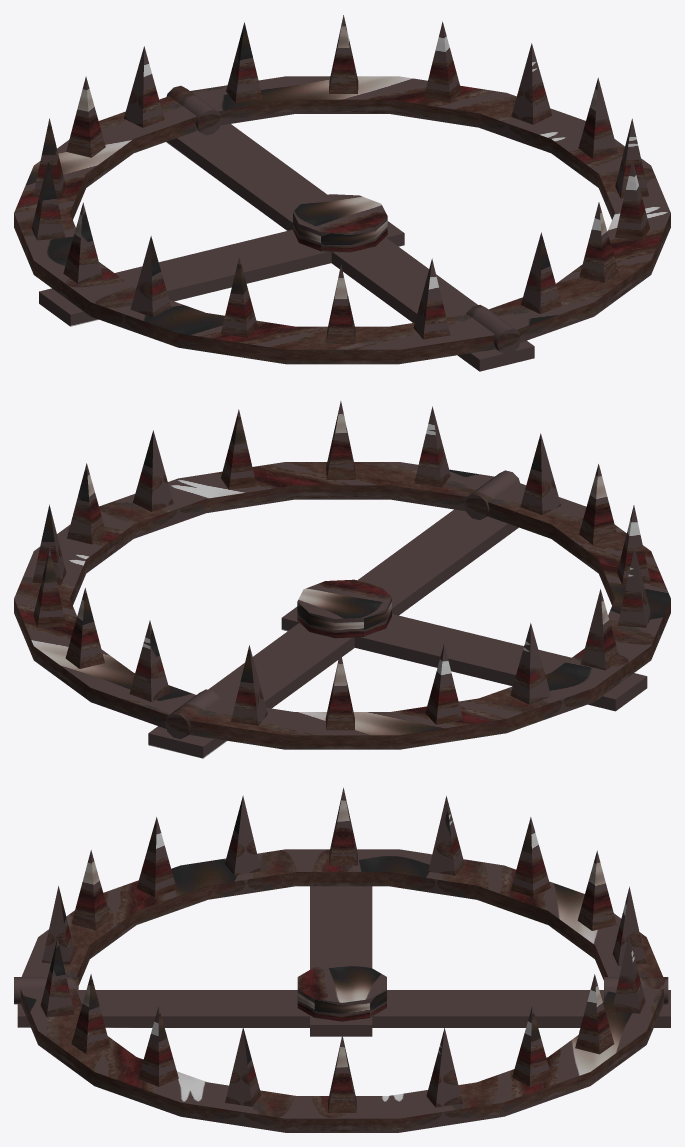
3 renders of one model, top to bottom at view 1: azimuth 30°, elevation 25°; view 2: azimuth 150°, elevation 25°; view 3: azimuth 270°, elevation 25°, orthographic.
Parts seen in each view (by area): view 1: Vsida, Hsida, BearTrap; view 2: Vsida, Hsida, BearTrap; view 3: Hsida, Vsida, BearTrap.
Boxes of the visible parts, <box> form: Vsida: <box>14,46,521,364</box>; Hsida: <box>190,15,670,342</box>; BearTrap: <box>39,124,534,371</box>; Vsida: <box>165,433,670,749</box>; Hsida: <box>14,401,494,728</box>; BearTrap: <box>148,509,647,758</box>; Hsida: <box>20,934,664,1132</box>; Vsida: <box>14,787,668,1004</box>; BearTrap: <box>17,886,670,1036</box>.
Size of the model in its own units: 0.0138 by 0.00244 by 0.014.
2 materials, 2 textured.
